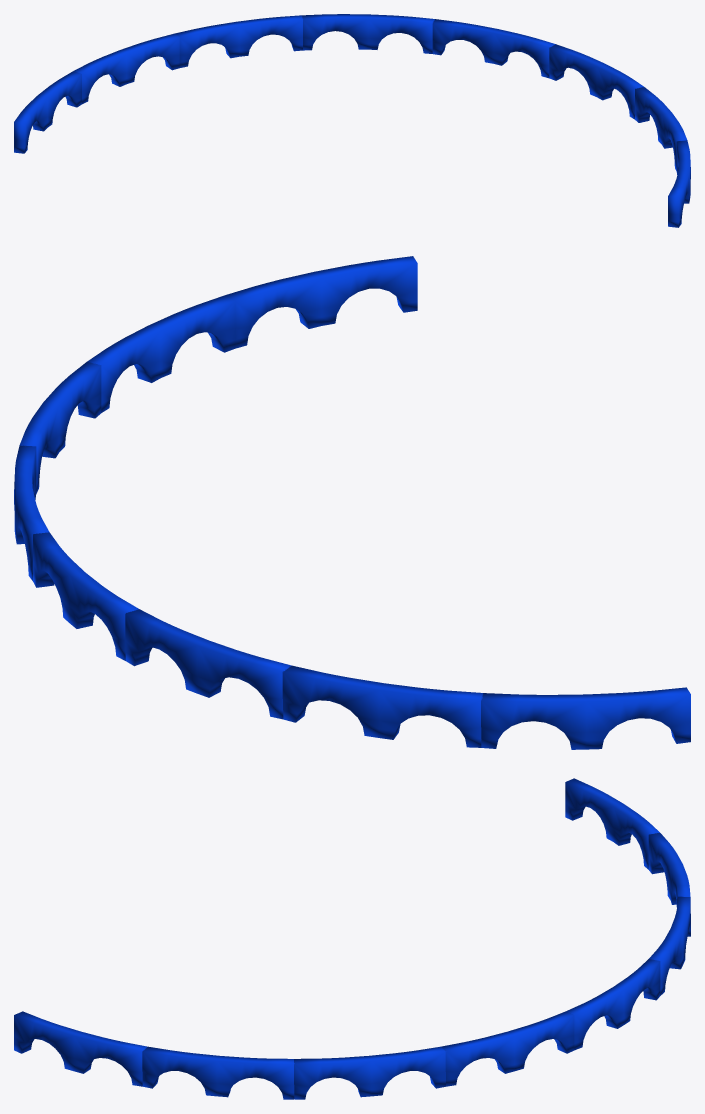
Rendered from Tower_Orn_01.fbx.
3 renders of one model, top to bottom at view 1: azimuth 30°, elevation 25°; view 2: azimuth 150°, elevation 25°; view 3: azimuth 270°, elevation 25°, orthographic. The views are drawn at different scales.
Visible parts, largest first — view 1: Tower_Orn_01; view 2: Tower_Orn_01; view 3: Tower_Orn_01.
Part boxes in pixels (x1=…): Tower_Orn_01: x1=14, y1=14, x2=690, y2=227; Tower_Orn_01: x1=14, y1=256, x2=690, y2=749; Tower_Orn_01: x1=14, y1=778, x2=690, y2=1099.
Size of the model in its own units: 1387 by 79.7 by 1387.
